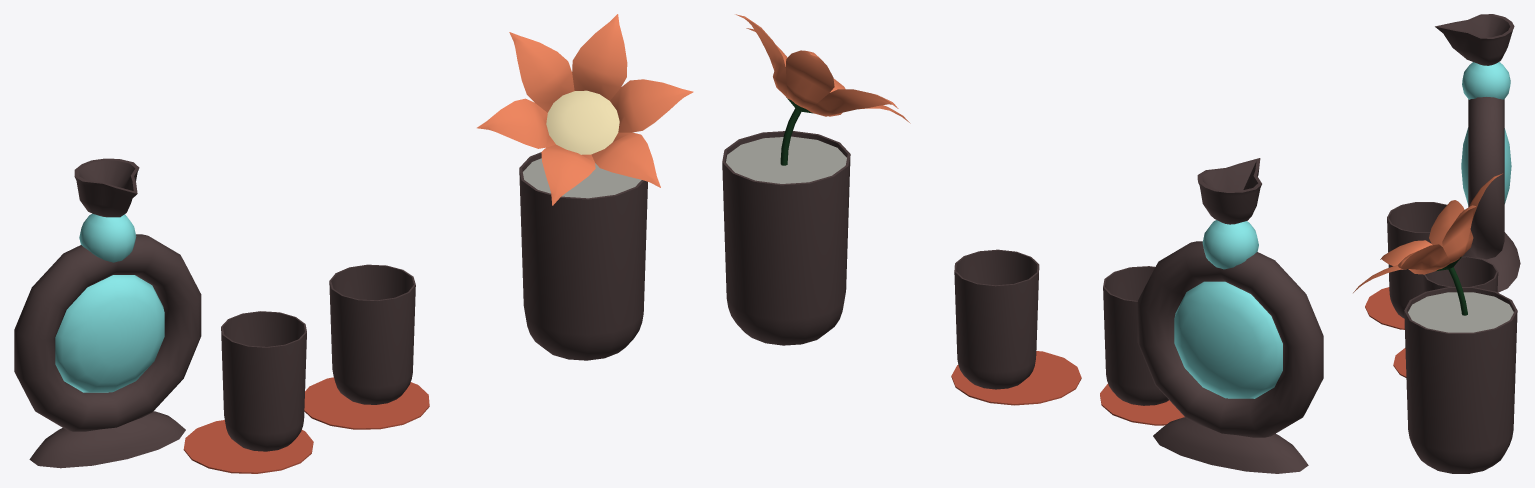
File: FI_056_drinks_and_flower.glb
The picture shows the model from 3 angles, left to right: view 1: azimuth 30°, elevation 25°; view 2: azimuth 150°, elevation 25°; view 3: azimuth 270°, elevation 25°; orthographic projection. The views are drawn at different scales.
Visible parts, largest first — view 1: drinks_and_flower; view 2: drinks_and_flower; view 3: drinks_and_flower.
Part boxes in pixels (bbox=[...]): drinks_and_flower: bbox=[14, 14, 693, 473]; drinks_and_flower: bbox=[722, 14, 1323, 473]; drinks_and_flower: bbox=[1353, 14, 1520, 473].
Size of the model in its own units: 1.52 by 0.7228 by 0.4068.
